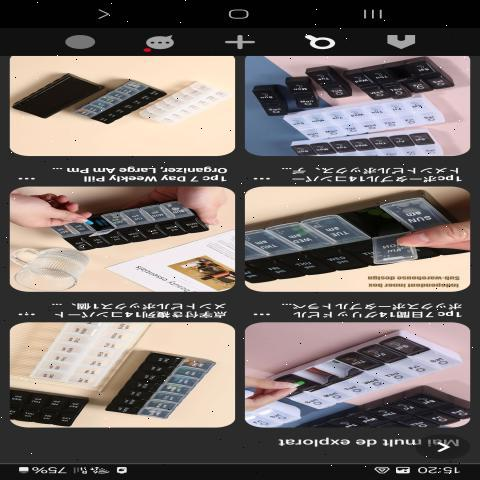PillBox: (232, 197, 469, 292), (253, 333, 460, 411), (31, 198, 213, 254), (105, 340, 219, 427), (64, 76, 164, 136), (10, 68, 106, 126)
